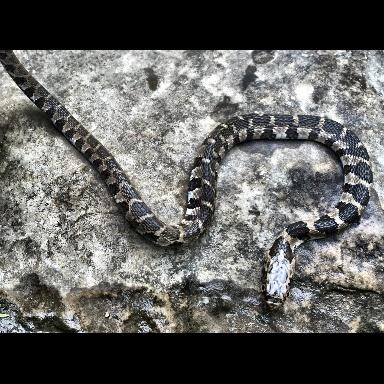snake: (0, 50, 373, 299)
